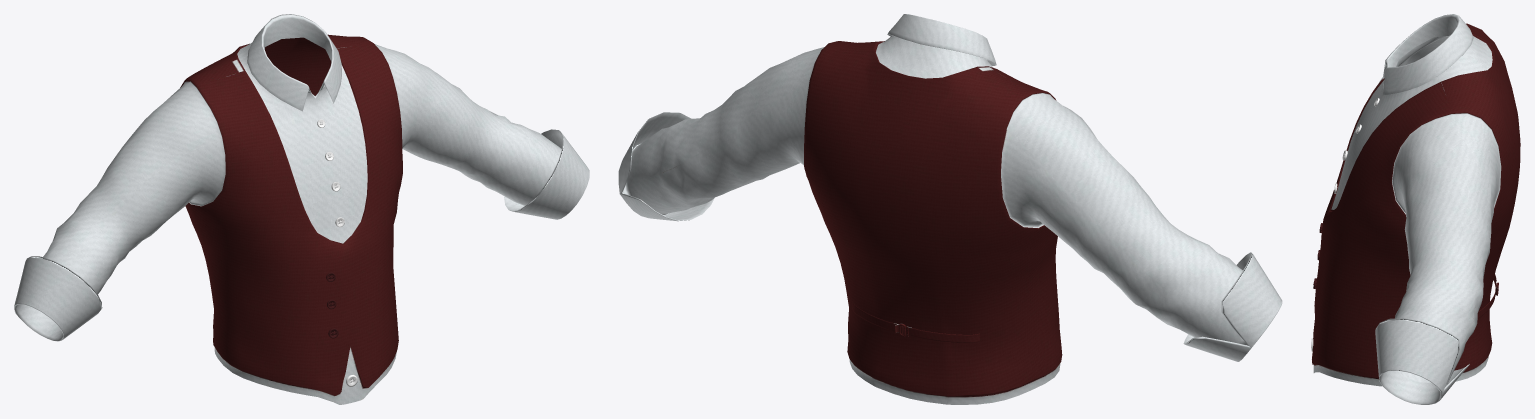
File: 8c72777e-09d4-414b-b4f0-5211f87f1b9d_a_fashionable_waistcoat.glb
3 views of the same model, side by side, from view 1: azimuth 30°, elevation 25°; view 2: azimuth 150°, elevation 25°; view 3: azimuth 270°, elevation 25° (orthographic). The views are drawn at different scales.
Parts seen in each view (by area): view 1: waistcoat_low; view 2: waistcoat_low, backBuckle_low; view 3: waistcoat_low, backBuckle_low.
Boxes of the visible parts, box(x1,y1,x2,y2) form: waistcoat_low: box(14, 14, 589, 404); waistcoat_low: box(618, 14, 1282, 404); backBuckle_low: box(852, 302, 980, 342); waistcoat_low: box(1312, 14, 1520, 404); backBuckle_low: box(1477, 274, 1498, 318).
Bounding box in the file's own units: 2 × 1.14 × 0.619.
1 material, 1 textured.
